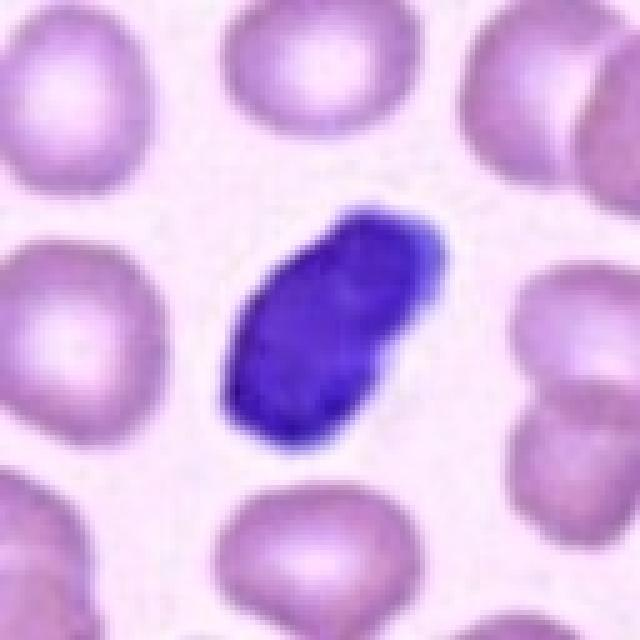lympho: (211, 196, 458, 455)
